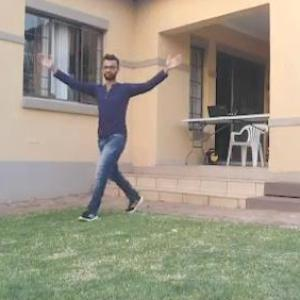takeoff: (50, 52, 197, 218)
